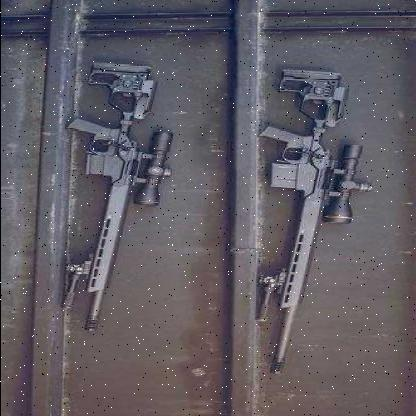rifle: (39, 58, 194, 357), (249, 54, 382, 394)
